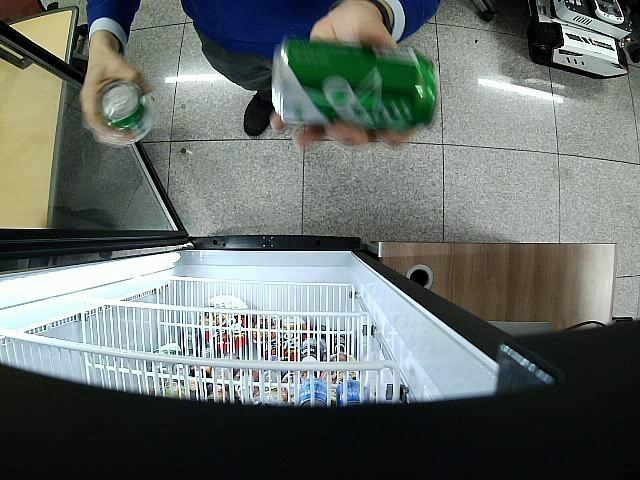12_chilsungCider: (272, 35, 438, 132), (101, 80, 154, 142)
